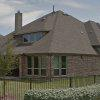Chimney: (12, 6, 26, 32)
